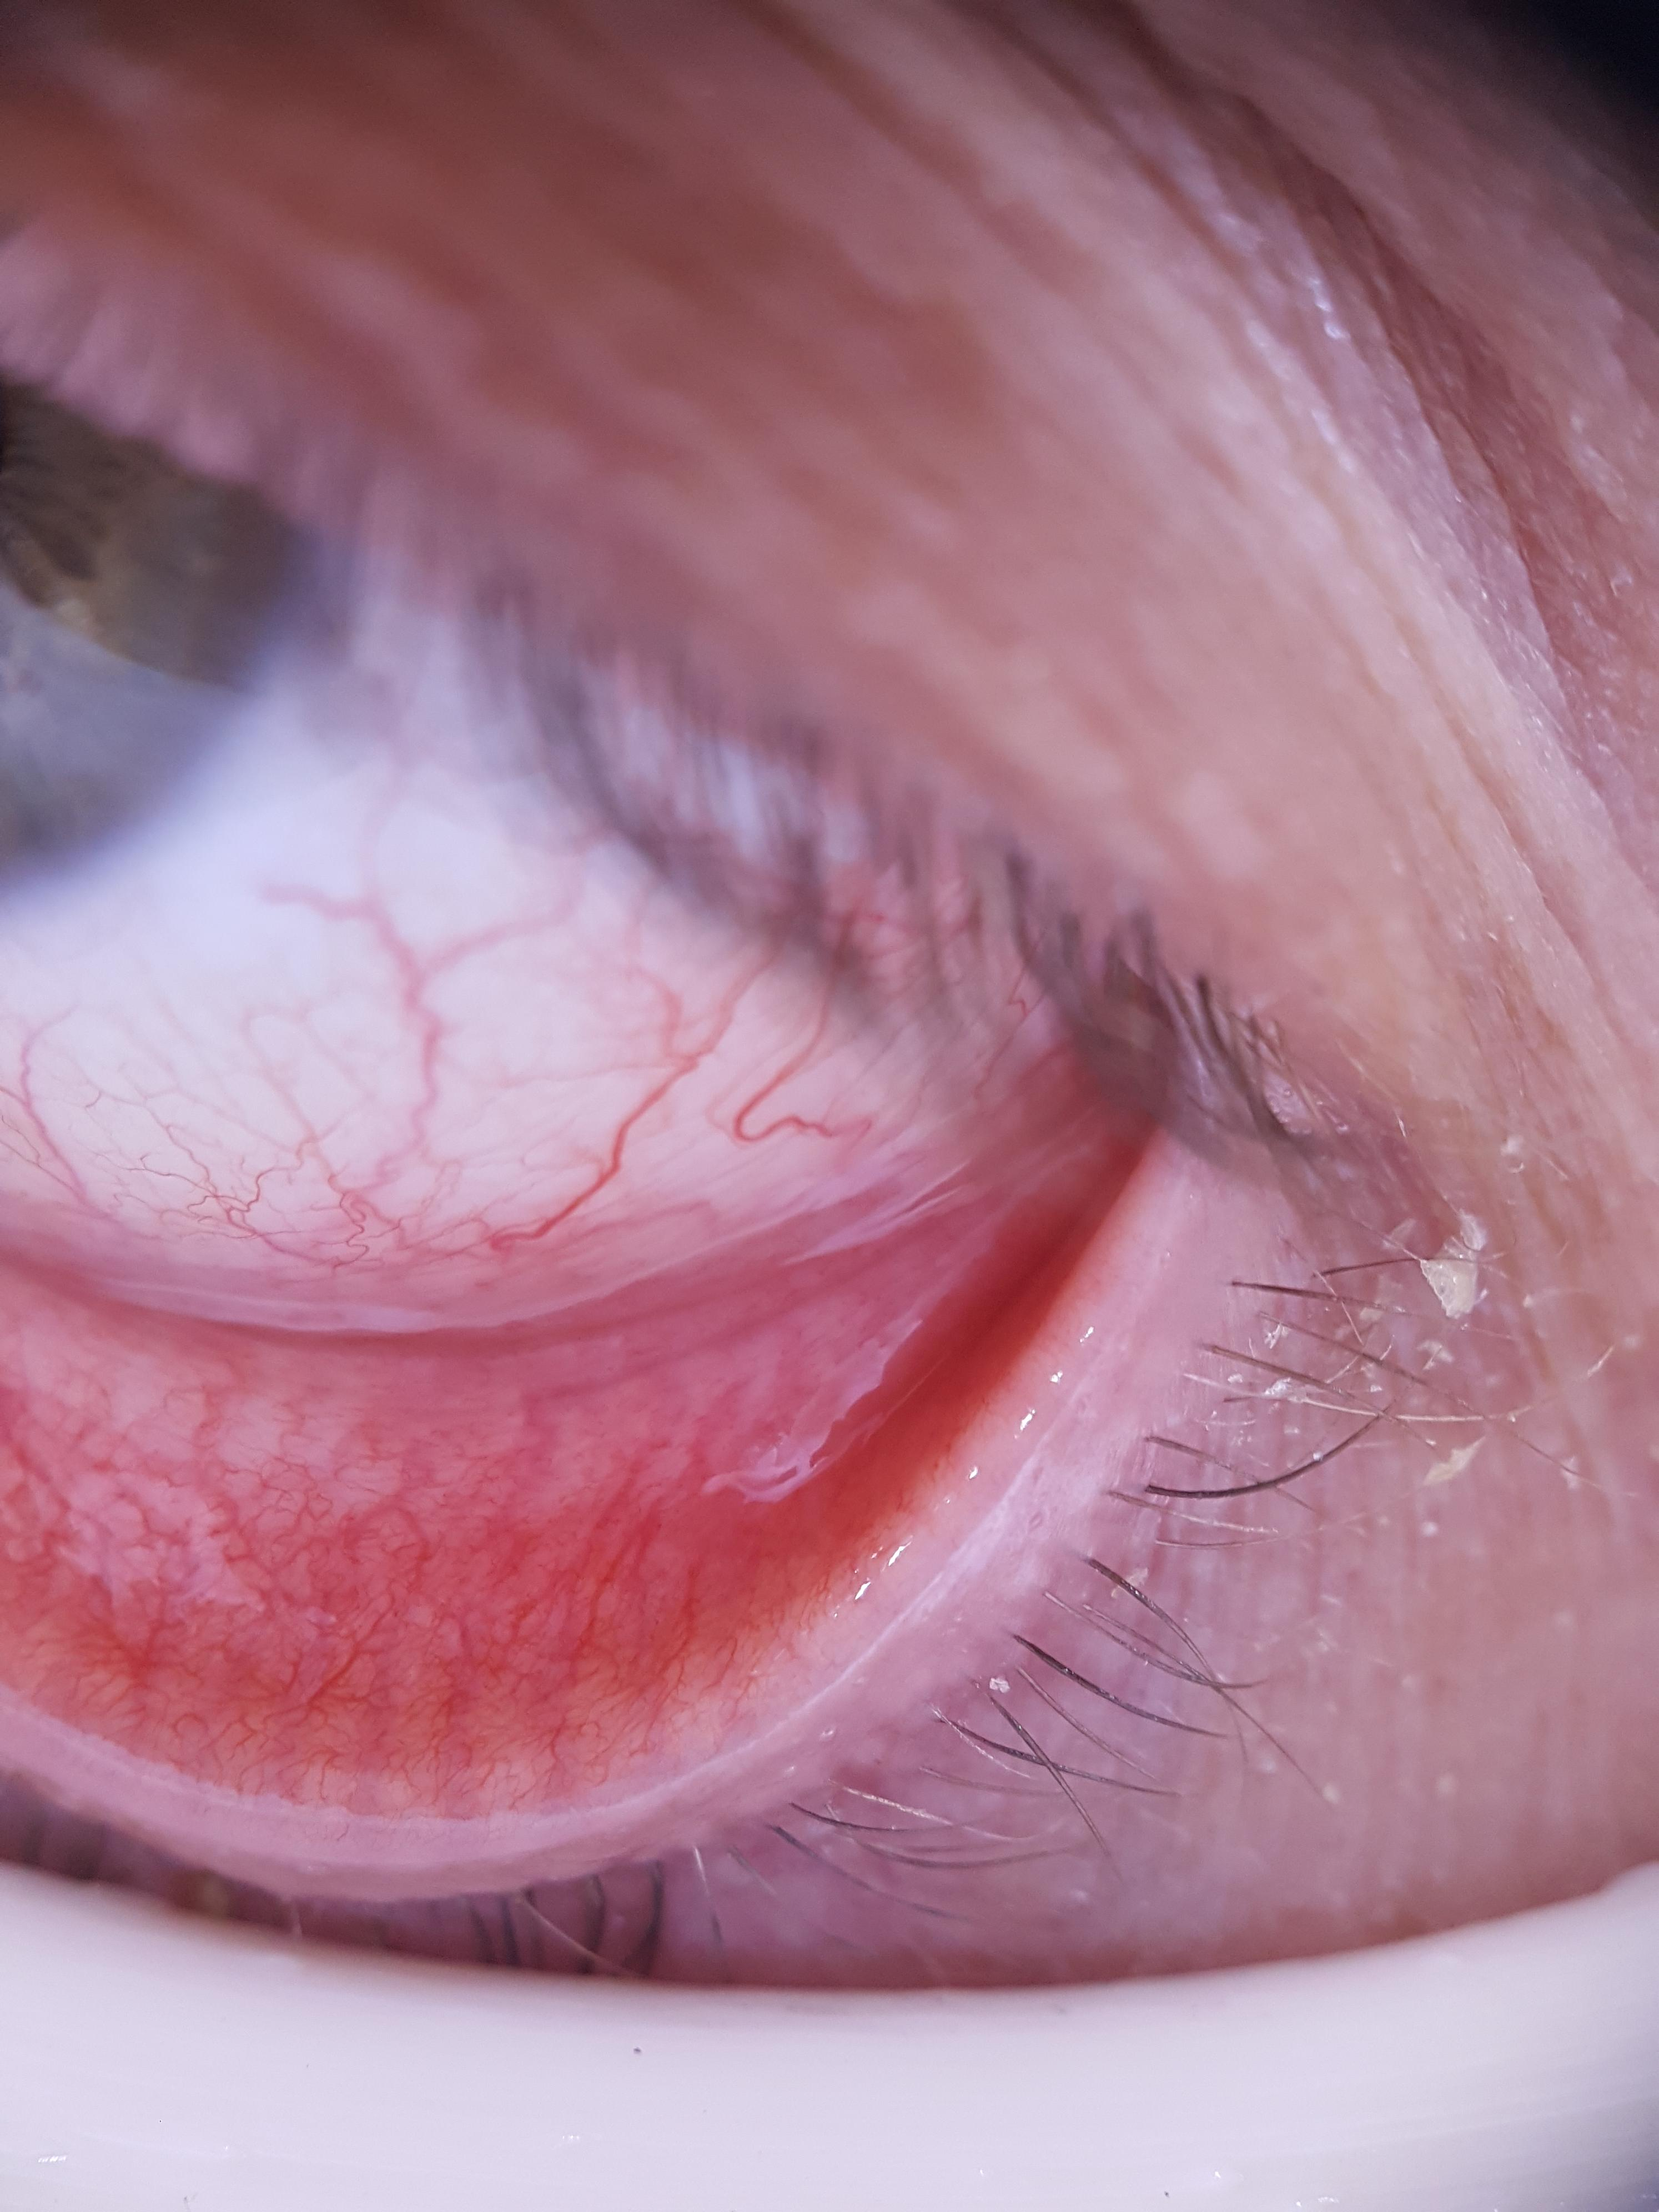forniceal: (0, 1104, 1073, 1550)
forniceal_palpebral: (0, 1111, 1114, 1757)
palpebral: (0, 1170, 1121, 1757)
